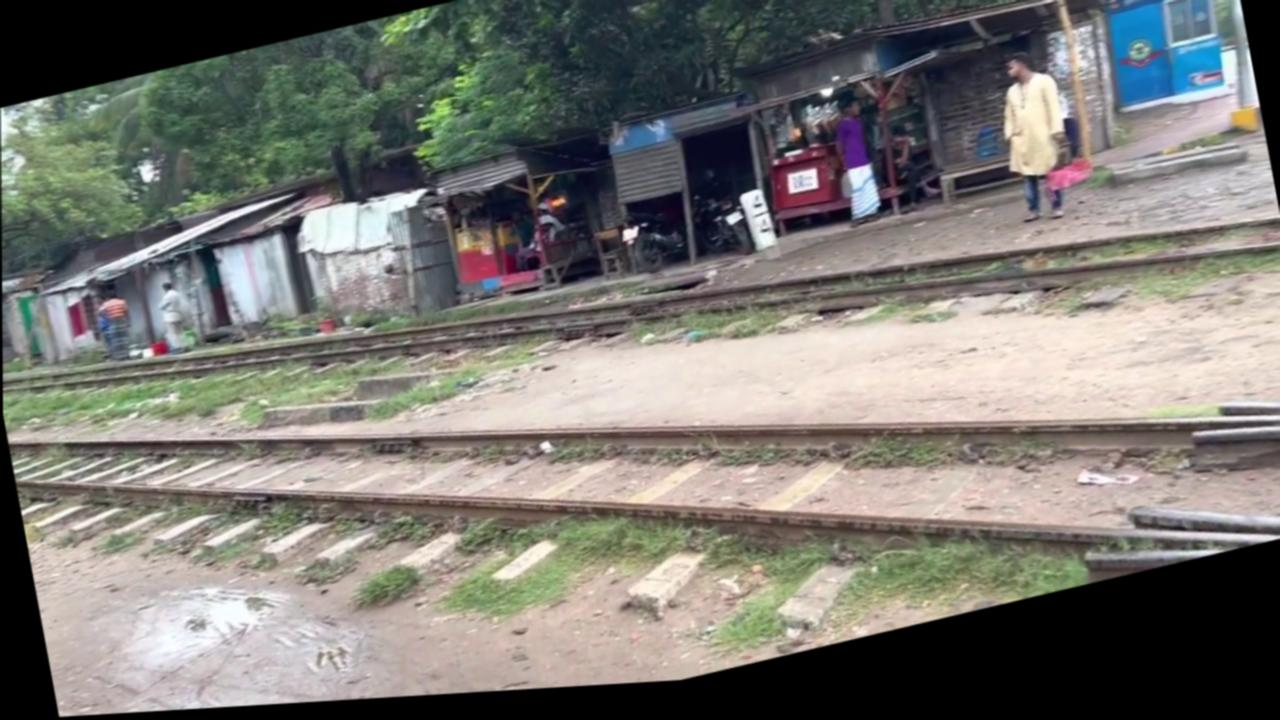Fence: (987, 54, 1080, 241), (823, 97, 886, 239), (875, 126, 943, 227), (91, 286, 136, 366), (152, 279, 192, 356)
Light-pole: (309, 295, 338, 340)
Motorcycle: (11, 179, 1280, 720)
